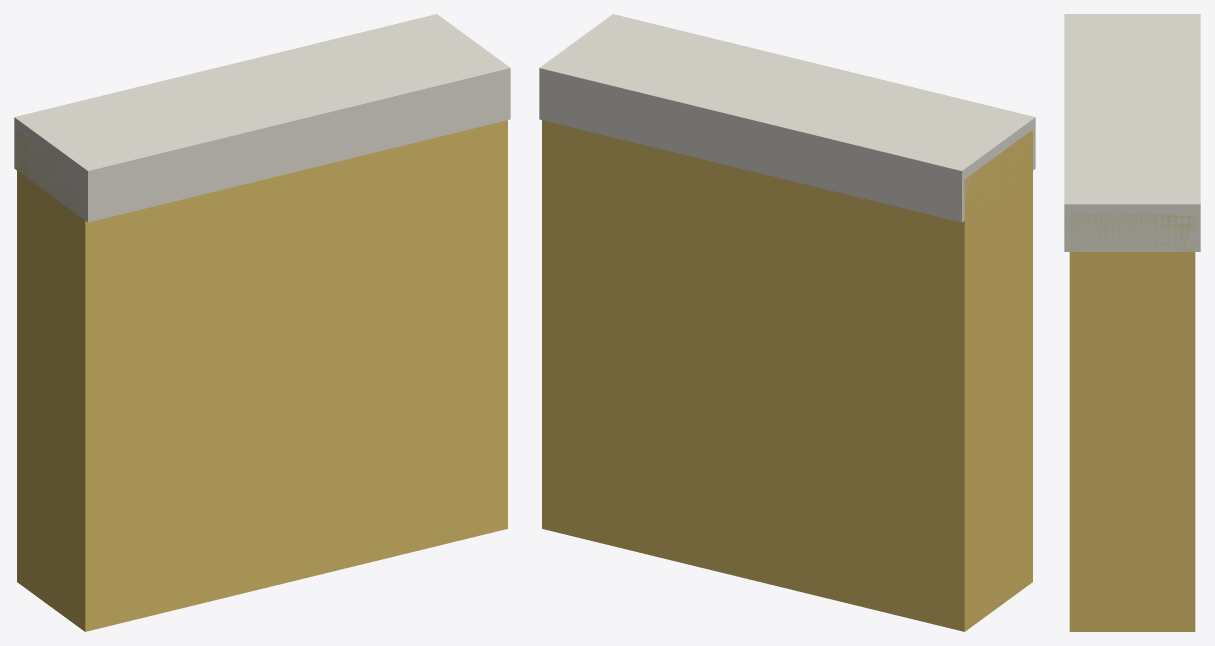
The model's file is cigpack.glb.
The picture shows the model from 3 angles, left to right: view 1: azimuth 30°, elevation 25°; view 2: azimuth 150°, elevation 25°; view 3: azimuth 270°, elevation 25°; orthographic projection. The views are drawn at different scales.
Visible parts, largest first — view 1: NC_cigpack; view 2: NC_cigpack; view 3: NC_cigpack.
Boxes of the visible parts, x1,y1,x2,y2 form: NC_cigpack: (14,14,510,631); NC_cigpack: (539,14,1035,631); NC_cigpack: (1064,14,1200,631).
Bounding box in the file's own units: 0.086 × 0.09 × 0.026.
